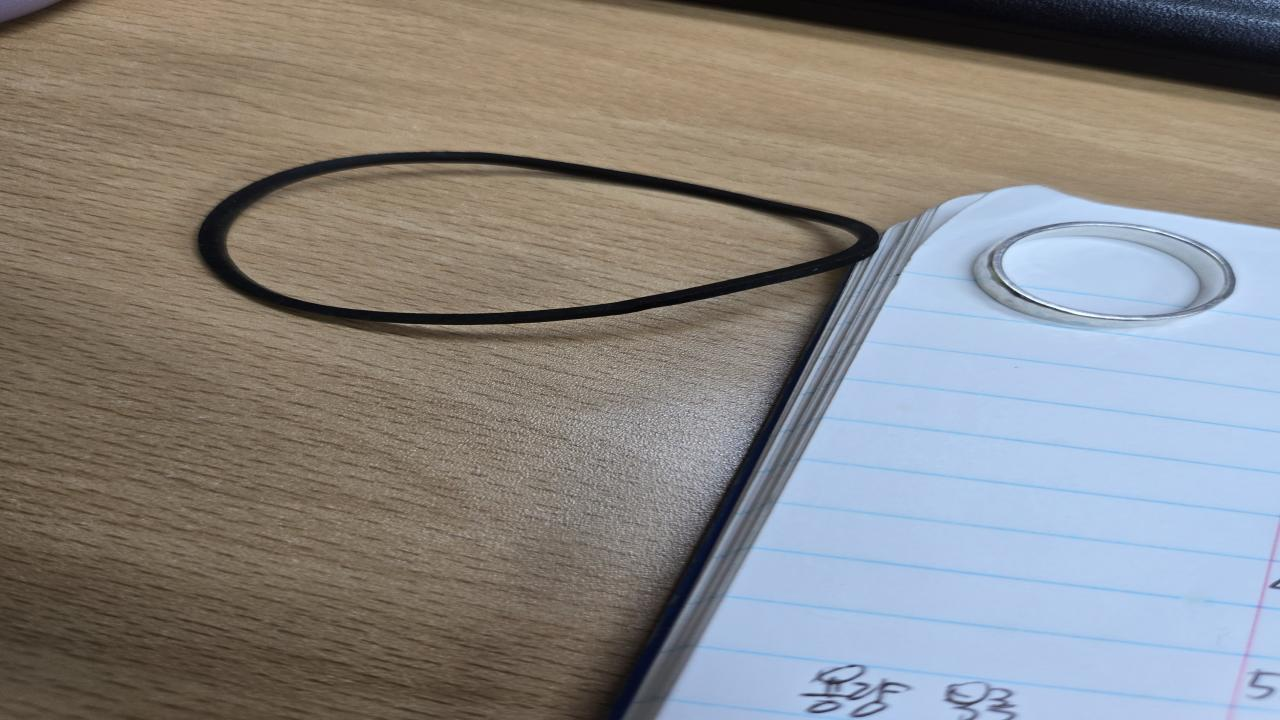ring: (976, 221, 1236, 329)
